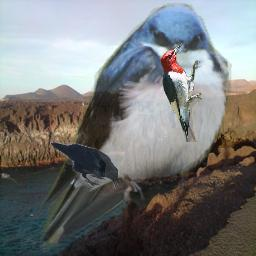Crow: (50, 142, 118, 189)
Swallow: (34, 2, 232, 248)
Woodpecker: (160, 43, 202, 142)
